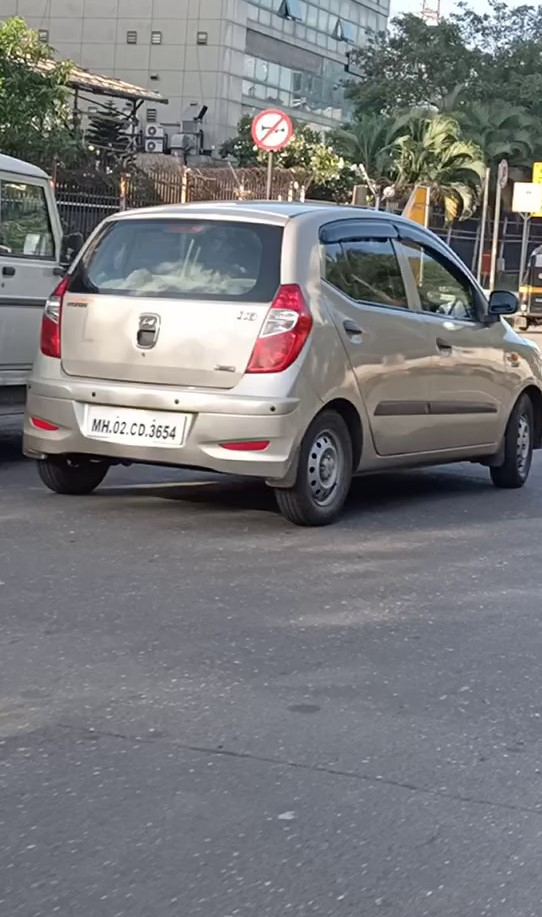MH02CD3654: (83, 404, 185, 449)
